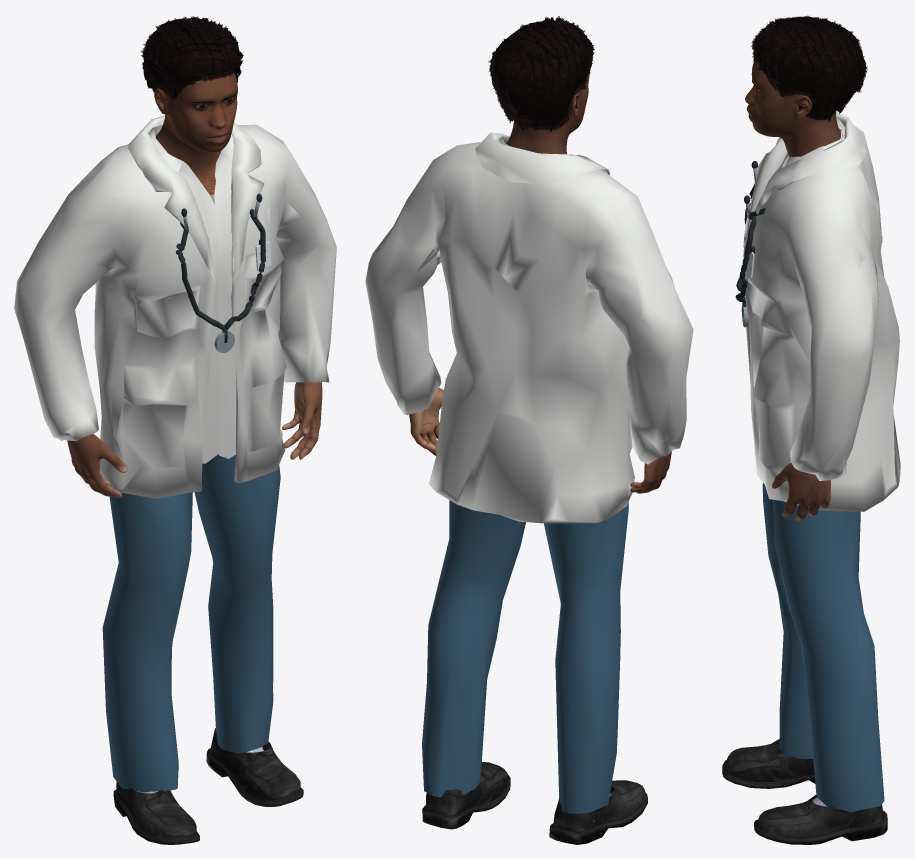
File: premium-doctor-jordan.glb
The picture shows the model from 3 angles, left to right: view 1: azimuth 30°, elevation 25°; view 2: azimuth 150°, elevation 25°; view 3: azimuth 270°, elevation 25°; orthographic projection.
Parts seen in each view (by area): view 1: male_casualsuit05, Jordan | anatomical body, shoes04, afro01, Doctor | fitted stethoscope tubing.001, Doctor | fitted stethoscope tubing; view 2: male_casualsuit05, afro01, shoes04, Jordan | anatomical body; view 3: male_casualsuit05, afro01, shoes04, Jordan | anatomical body, Doctor | fitted stethoscope tubing.001.
Boxes of the visible parts, x1,y1,x2,y2 form: male_casualsuit05: (14, 115, 336, 792); Jordan | anatomical body: (67, 73, 322, 497); shoes04: (113, 728, 303, 844); afro01: (140, 16, 243, 99); Doctor | fitted stethoscope tubing.001: (224, 215, 265, 329); Doctor | fitted stethoscope tubing: (175, 228, 224, 330); male_casualsuit05: (365, 132, 693, 813); afro01: (488, 16, 594, 132); shoes04: (422, 762, 647, 844); Jordan | anatomical body: (409, 72, 671, 493); male_casualsuit05: (743, 112, 900, 812); afro01: (751, 15, 867, 121); shoes04: (722, 739, 887, 844); Jordan | anatomical body: (745, 59, 841, 521); Doctor | fitted stethoscope tubing.001: (735, 216, 756, 304).
Bounding box in the file's own units: 0.7651 × 1.85 × 0.3831.
13 materials, 13 textured.
